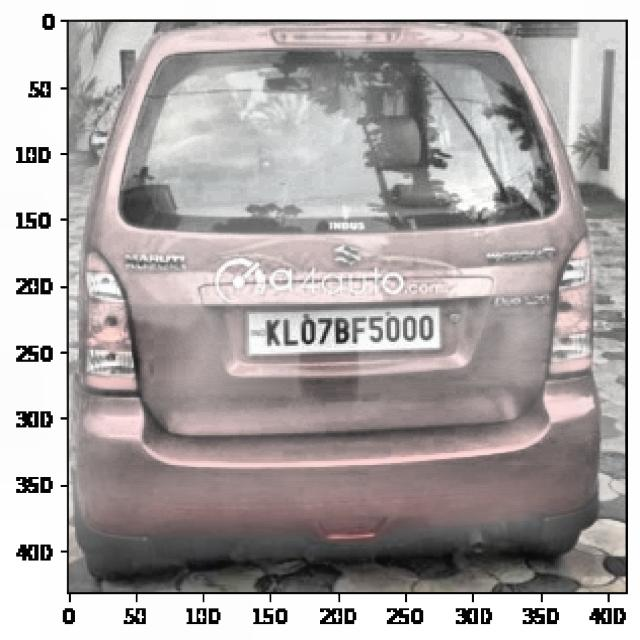license_plate: (258, 307, 446, 353)
